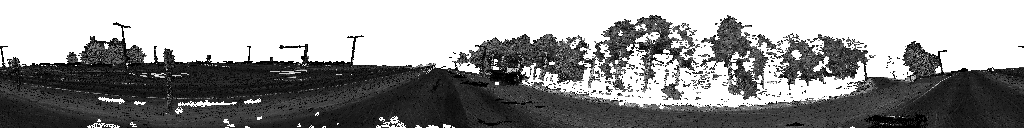gantry_sign_pole: (90, 22, 130, 63), (279, 44, 308, 70)
light_pole: (347, 36, 363, 69), (475, 46, 486, 77), (937, 49, 948, 75), (0, 47, 7, 69), (864, 64, 868, 80), (247, 46, 251, 61), (154, 47, 157, 64)
traffic_pole: (163, 49, 176, 114), (7, 58, 22, 93), (987, 68, 996, 75)
